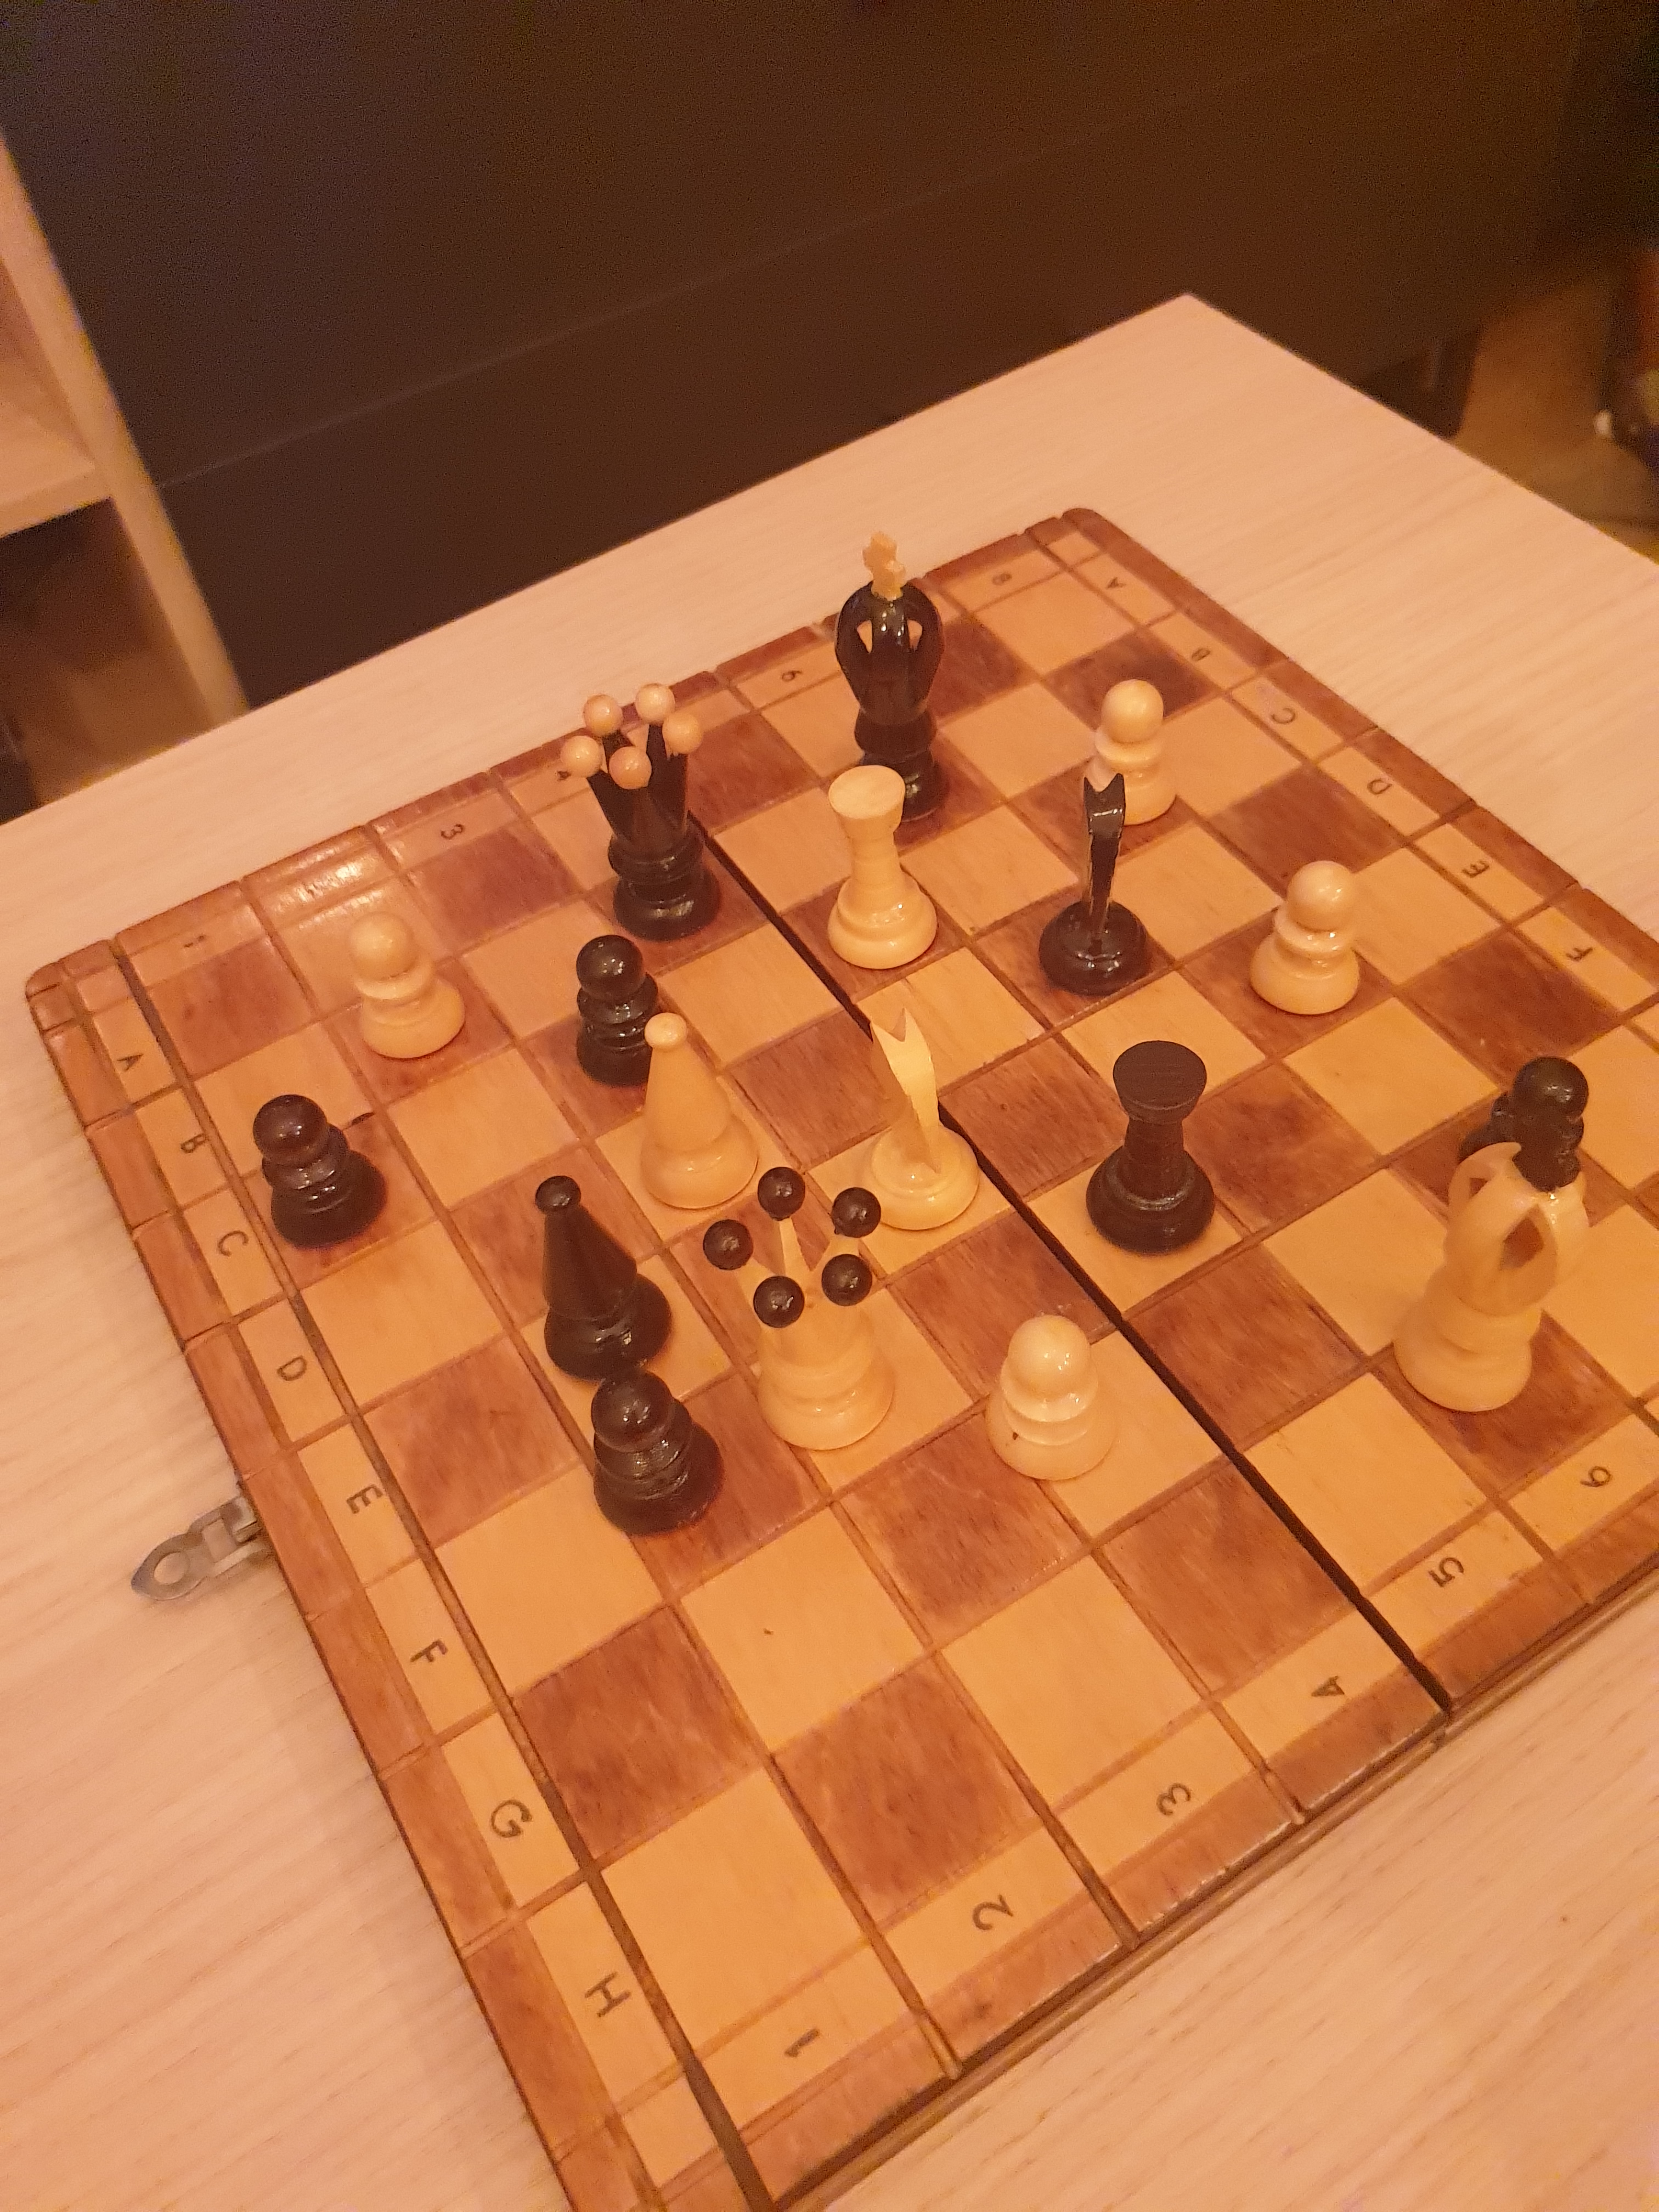bbishop: (512, 1157, 692, 1399)
bking: (824, 523, 967, 846)
bknight: (1025, 763, 1166, 1015)
bpawn: (568, 1359, 741, 1547), (1446, 1036, 1601, 1238), (239, 1089, 403, 1254), (565, 920, 683, 1097)
bqueen: (545, 676, 746, 965)
brook: (1073, 1028, 1243, 1273)
wbishop: (627, 998, 779, 1226)
wking: (1373, 1104, 1610, 1425)
wknight: (838, 1000, 995, 1244)
wpawn: (974, 1294, 1121, 1496), (333, 897, 484, 1073), (1239, 843, 1375, 1028), (1070, 664, 1195, 841)
wqueen: (697, 1157, 915, 1458)
wrook: (802, 740, 960, 984)
